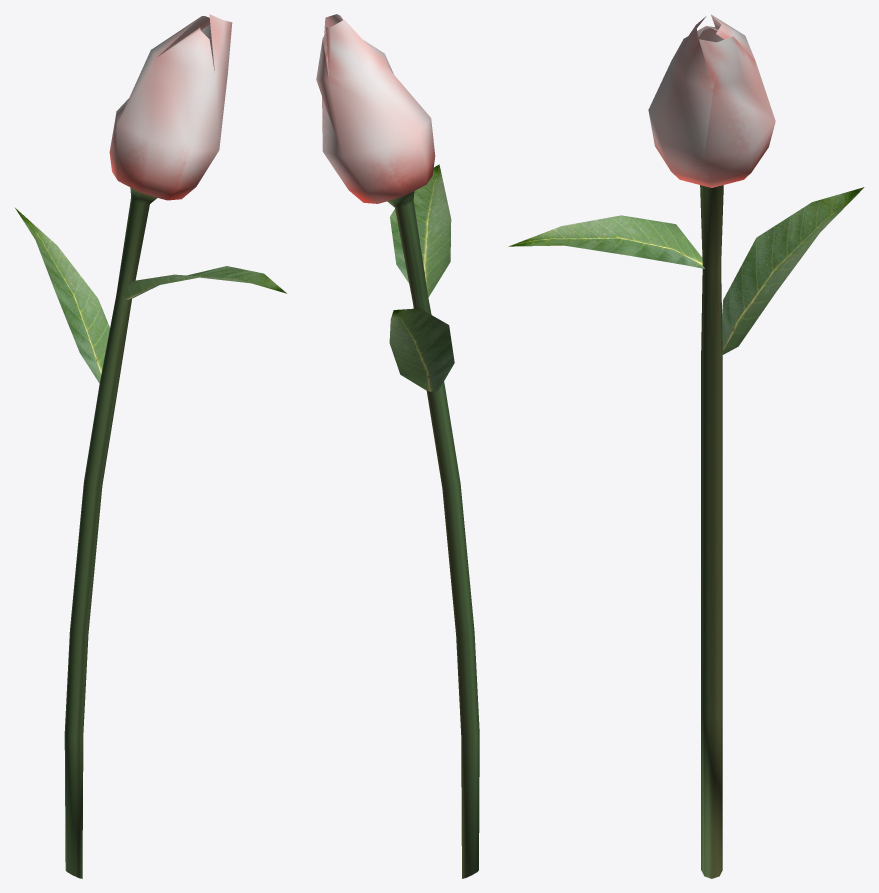
The model's file is flower_A_c01.fbx.
The picture shows the model from 3 angles, left to right: view 1: azimuth 30°, elevation 25°; view 2: azimuth 150°, elevation 25°; view 3: azimuth 270°, elevation 25°; orthographic projection. The views are drawn at different scales.
Visible parts, largest first — view 1: flowerA_c1; view 2: flowerA_c1; view 3: flowerA_c1.
Part boxes in pixels (left/top/right/bottom): flowerA_c1: left=15, top=14, right=286, bottom=878; flowerA_c1: left=316, top=14, right=479, bottom=878; flowerA_c1: left=508, top=14, right=864, bottom=878.
Bounding box in the file's own units: 6.24 × 30.99 × 10.75.
